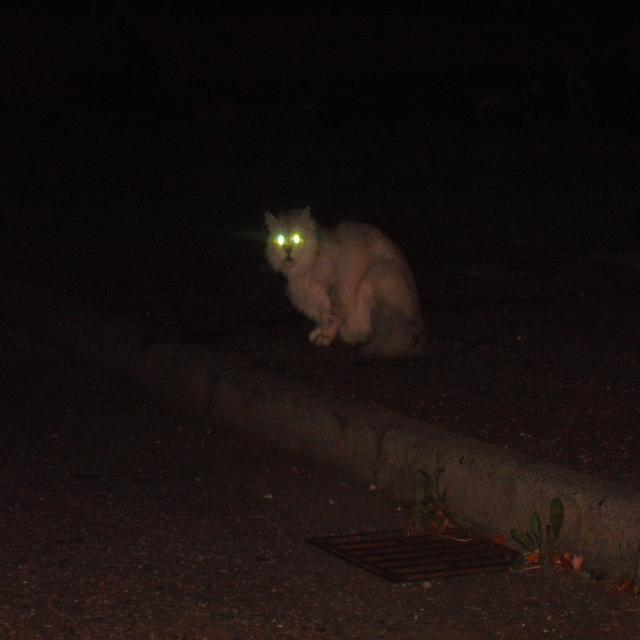Cat: (238, 200, 442, 412)
